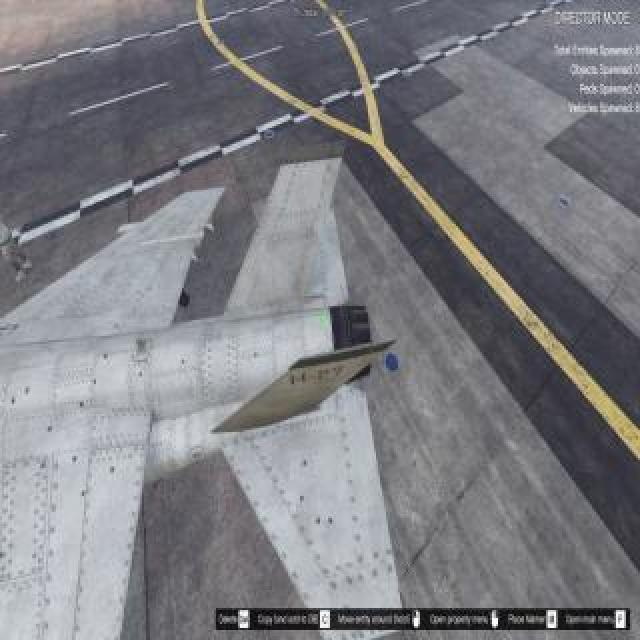crack: (328, 515, 334, 527), (71, 455, 79, 463), (112, 322, 120, 330), (315, 516, 321, 526), (299, 493, 305, 503), (302, 458, 308, 468), (110, 465, 116, 475), (40, 459, 46, 469), (25, 385, 31, 395), (78, 399, 84, 409), (180, 358, 186, 366), (80, 490, 86, 498), (46, 425, 54, 431), (103, 352, 109, 360), (138, 371, 144, 379), (11, 395, 15, 405), (92, 377, 96, 387), (253, 352, 259, 358), (148, 285, 152, 291), (136, 290, 140, 294), (155, 257, 159, 261)
